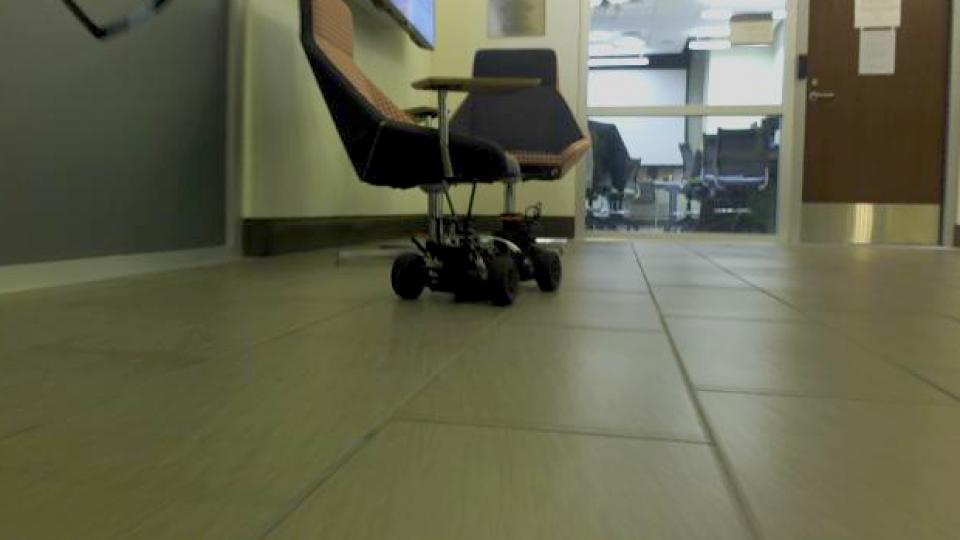car: (292, 0, 592, 309)
